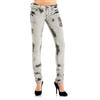jeans: (31, 3, 64, 84)
